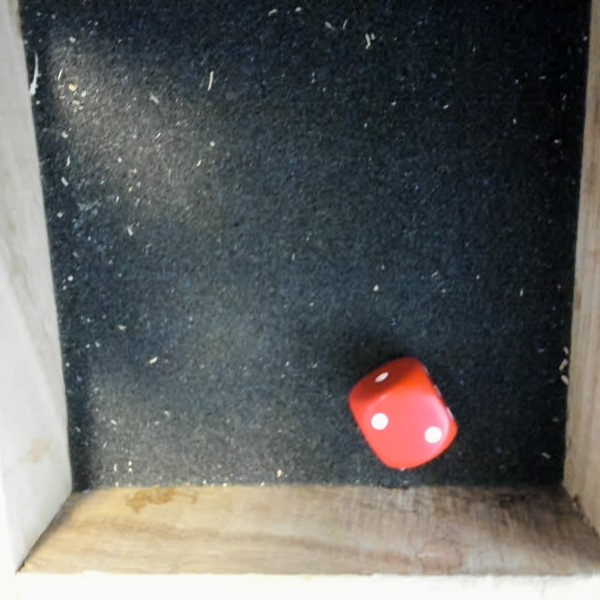red_die_pip2: (329, 339, 476, 489)
